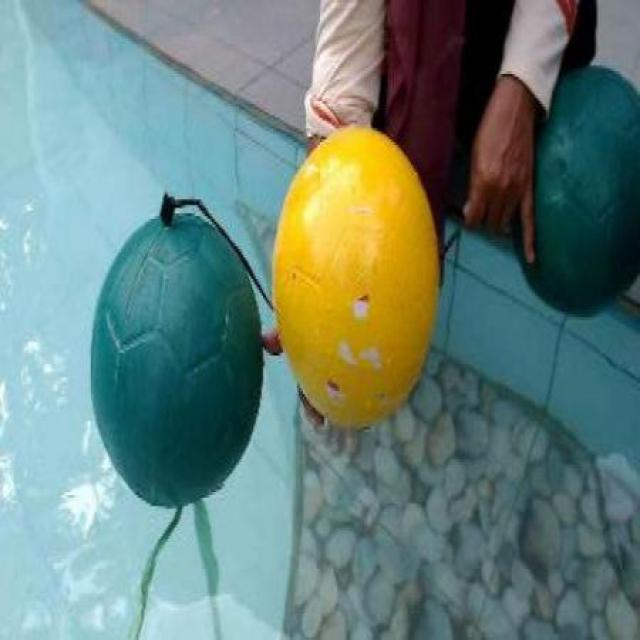buoy: (89, 210, 265, 507), (272, 124, 439, 428), (510, 63, 638, 320)
